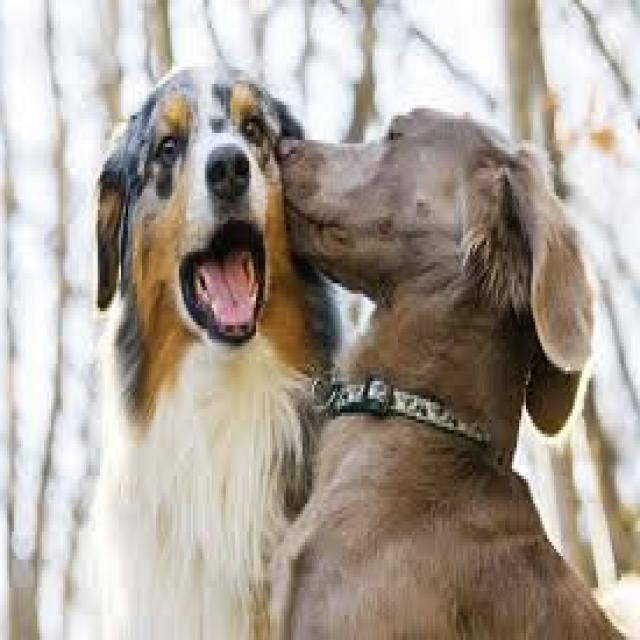dog: (275, 108, 621, 637), (98, 66, 340, 637)
